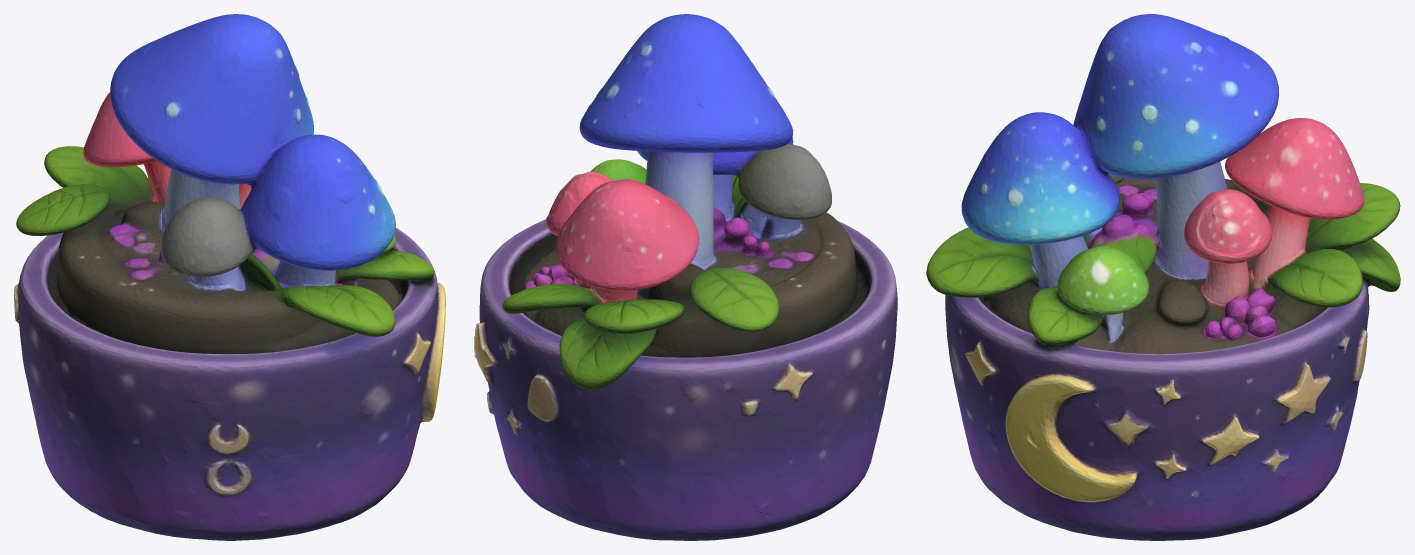
File: flower_12.glb
3 views of the same model, side by side, from view 1: azimuth 30°, elevation 25°; view 2: azimuth 150°, elevation 25°; view 3: azimuth 270°, elevation 25° (orthographic).
Visible parts, largest first — view 1: tripo_node_696f44c8-454c-4ab8-83b2-440821ef17c0; view 2: tripo_node_696f44c8-454c-4ab8-83b2-440821ef17c0; view 3: tripo_node_696f44c8-454c-4ab8-83b2-440821ef17c0.
Part boxes in pixels (<box>): tripo_node_696f44c8-454c-4ab8-83b2-440821ef17c0: <box>14,14,445,540</box>; tripo_node_696f44c8-454c-4ab8-83b2-440821ef17c0: <box>474,14,897,540</box>; tripo_node_696f44c8-454c-4ab8-83b2-440821ef17c0: <box>926,14,1400,540</box>.
Size of the model in its own units: 0.8527 by 0.9996 by 0.9454.
1 material, 1 textured.
